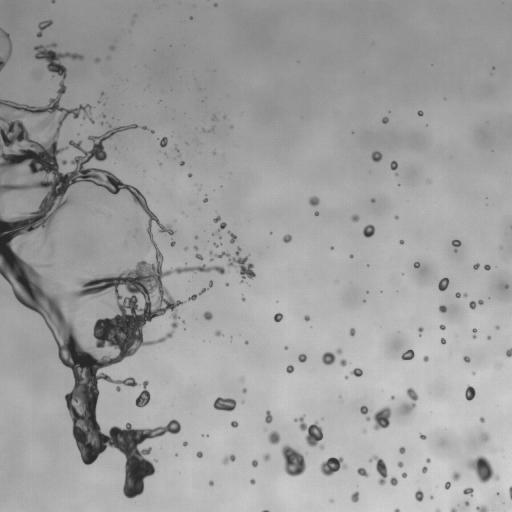droplet: (280, 443, 308, 476), (466, 455, 499, 483), (359, 405, 391, 430), (318, 456, 347, 476), (321, 347, 342, 365), (213, 396, 237, 411), (267, 430, 281, 445), (362, 224, 375, 238), (465, 384, 475, 401), (438, 277, 449, 291), (222, 454, 236, 465), (401, 349, 414, 360), (451, 239, 461, 253), (469, 299, 483, 309), (356, 467, 370, 477), (371, 150, 382, 162), (308, 195, 320, 206), (227, 230, 237, 243), (414, 488, 423, 502), (39, 35, 50, 46), (215, 120, 226, 131), (93, 125, 104, 136), (82, 140, 93, 151), (379, 156, 390, 167), (87, 157, 98, 168), (3, 211, 14, 222), (153, 231, 164, 242), (157, 233, 168, 244), (199, 271, 210, 282), (436, 312, 447, 323), (63, 380, 74, 391), (368, 403, 379, 414), (62, 416, 73, 427), (99, 423, 110, 434), (271, 443, 282, 454), (296, 443, 307, 454), (104, 444, 115, 455), (70, 448, 81, 459), (116, 452, 127, 463), (488, 458, 499, 469), (366, 463, 377, 474), (385, 464, 396, 475), (115, 469, 126, 480), (467, 469, 478, 480), (452, 480, 463, 491), (469, 494, 480, 505), (265, 409, 273, 423), (157, 136, 167, 147), (462, 487, 473, 497), (476, 503, 489, 511), (273, 312, 283, 322), (451, 471, 461, 481), (350, 491, 359, 502), (282, 234, 292, 243), (203, 311, 213, 320), (480, 432, 489, 442), (390, 475, 398, 486), (438, 304, 447, 313), (298, 353, 307, 362), (286, 364, 295, 373), (83, 54, 92, 63), (57, 56, 66, 65), (52, 72, 61, 81), (16, 96, 25, 105), (39, 98, 48, 107), (90, 108, 99, 117), (356, 220, 365, 229), (198, 232, 207, 241), (226, 244, 235, 253), (218, 257, 227, 266), (209, 270, 218, 279), (292, 360, 301, 369), (344, 363, 353, 372), (96, 378, 105, 387), (133, 385, 142, 394), (94, 413, 103, 422), (266, 422, 275, 431), (470, 450, 479, 459), (96, 452, 105, 461), (277, 456, 286, 465), (248, 467, 257, 476), (142, 475, 151, 484), (390, 160, 398, 170), (214, 329, 224, 337), (211, 113, 219, 122), (350, 214, 359, 222), (230, 420, 239, 428), (0, 91, 8, 100), (504, 347, 511, 357), (457, 505, 468, 511), (339, 358, 347, 366), (263, 453, 271, 461), (349, 327, 355, 337), (381, 116, 388, 124), (413, 261, 420, 269), (398, 446, 405, 454), (489, 446, 497, 453), (251, 459, 258, 467), (0, 105, 5, 116), (178, 159, 185, 166), (422, 355, 429, 362), (463, 355, 470, 362), (419, 432, 426, 439), (34, 37, 41, 44), (52, 46, 59, 53), (41, 58, 48, 65), (50, 91, 57, 98), (111, 120, 118, 127), (198, 132, 205, 139), (166, 139, 173, 146), (157, 153, 164, 160), (82, 162, 89, 169), (120, 176, 127, 183), (8, 189, 15, 196), (307, 190, 314, 197), (32, 204, 39, 211), (148, 204, 155, 211), (310, 204, 317, 211), (219, 228, 226, 235), (281, 228, 288, 235), (171, 233, 178, 240), (238, 251, 245, 258), (194, 259, 201, 266), (204, 260, 211, 267), (160, 264, 167, 271), (170, 271, 177, 278), (160, 275, 167, 282), (463, 297, 470, 304), (206, 305, 213, 312), (26, 308, 33, 315), (439, 330, 446, 337), (138, 344, 145, 351), (328, 346, 335, 353), (334, 354, 341, 361), (122, 355, 129, 362), (65, 367, 72, 374), (95, 367, 102, 374), (135, 376, 142, 383), (413, 386, 420, 393), (404, 396, 411, 403), (367, 410, 374, 417), (369, 418, 376, 425), (160, 419, 167, 426), (118, 423, 125, 430), (378, 426, 385, 433), (262, 431, 269, 438), (69, 437, 76, 444), (486, 439, 493, 446), (136, 443, 143, 450), (143, 453, 150, 460), (397, 453, 404, 460), (321, 454, 328, 461), (256, 456, 263, 463), (303, 457, 310, 464), (383, 459, 390, 466), (332, 470, 339, 477), (374, 472, 381, 479), (394, 472, 401, 479), (295, 473, 302, 480), (320, 473, 327, 480), (487, 477, 494, 484), (119, 493, 126, 500), (134, 493, 141, 500), (422, 493, 429, 500), (486, 503, 493, 510), (169, 238, 175, 246), (473, 262, 479, 270), (239, 376, 245, 384), (444, 481, 450, 489), (440, 506, 449, 511), (467, 506, 476, 511), (99, 112, 106, 118), (483, 264, 490, 270), (439, 324, 446, 330), (440, 337, 446, 344), (479, 416, 485, 423), (196, 451, 202, 458), (397, 461, 403, 468), (421, 466, 427, 473), (400, 472, 407, 478), (249, 478, 255, 485), (94, 57, 100, 63), (417, 110, 423, 116), (304, 315, 310, 321), (425, 457, 431, 463), (0, 50, 4, 59), (241, 293, 245, 301), (109, 45, 115, 50), (100, 91, 105, 97), (211, 149, 216, 155), (398, 239, 404, 244), (242, 387, 247, 393), (362, 427, 367, 433), (182, 441, 188, 446), (208, 480, 213, 486), (426, 178, 431, 183), (370, 198, 375, 203), (314, 211, 319, 216), (183, 246, 188, 251), (494, 325, 499, 330), (486, 335, 491, 340), (390, 395, 395, 400), (262, 427, 267, 432), (329, 498, 334, 503), (464, 501, 469, 506), (44, 15, 49, 20), (4, 27, 9, 32), (34, 27, 39, 32), (41, 29, 46, 34), (54, 38, 59, 43), (11, 43, 16, 48), (50, 46, 55, 51), (11, 47, 16, 52), (69, 48, 74, 53), (32, 49, 37, 54), (76, 49, 81, 54), (106, 49, 111, 54), (10, 50, 15, 55), (99, 55, 104, 60), (74, 58, 79, 63), (1, 65, 6, 70), (65, 69, 70, 74), (52, 71, 57, 76), (62, 80, 67, 85), (55, 84, 60, 89), (64, 88, 69, 93), (60, 93, 65, 98), (58, 102, 63, 107), (78, 109, 83, 114), (68, 112, 73, 117), (216, 113, 221, 118), (386, 113, 391, 118), (105, 115, 110, 120), (377, 115, 382, 120), (98, 116, 103, 121), (84, 117, 89, 122), (61, 120, 66, 125), (125, 120, 130, 125), (209, 120, 214, 125), (137, 121, 142, 126), (385, 121, 390, 126), (204, 124, 209, 129), (59, 126, 64, 131), (136, 126, 141, 131), (126, 128, 131, 133), (208, 131, 213, 136), (164, 132, 169, 137), (111, 133, 116, 138), (73, 138, 78, 143), (101, 140, 106, 145), (79, 143, 84, 148), (55, 144, 60, 149), (161, 146, 166, 151), (371, 146, 376, 151), (105, 153, 110, 158), (180, 155, 185, 160), (90, 156, 95, 161), (367, 156, 372, 161), (176, 157, 181, 162), (371, 160, 376, 165), (375, 160, 380, 165), (396, 160, 401, 165), (385, 163, 390, 168), (394, 167, 399, 172), (192, 186, 197, 191), (139, 188, 144, 193), (316, 193, 321, 198), (368, 193, 373, 198), (374, 196, 379, 201), (365, 197, 370, 202), (304, 198, 309, 203), (354, 210, 359, 215), (158, 218, 163, 223), (150, 219, 155, 224), (369, 220, 374, 225), (215, 221, 220, 226), (170, 225, 175, 230), (223, 226, 228, 231), (373, 229, 378, 234), (359, 232, 364, 237), (226, 234, 231, 239), (278, 234, 283, 239), (368, 235, 373, 240), (193, 239, 198, 244), (233, 239, 238, 244), (281, 241, 286, 246), (286, 241, 291, 246), (456, 245, 461, 250), (159, 248, 164, 253), (191, 249, 196, 254), (196, 249, 201, 254), (221, 254, 226, 259), (186, 262, 191, 267), (179, 263, 184, 268), (489, 263, 494, 268), (478, 264, 483, 269), (223, 265, 228, 270), (236, 266, 241, 271), (250, 266, 255, 271), (186, 270, 191, 275), (196, 270, 201, 275), (180, 271, 185, 276), (236, 273, 241, 278), (203, 282, 208, 287), (433, 282, 438, 287), (6, 284, 11, 289), (444, 287, 449, 292), (458, 288, 463, 293), (193, 289, 198, 294), (362, 293, 367, 298), (236, 294, 241, 299), (172, 296, 177, 301), (12, 297, 17, 302), (473, 297, 478, 302), (482, 297, 487, 302), (439, 300, 444, 305), (475, 303, 480, 308), (20, 304, 25, 309), (176, 304, 181, 309), (434, 307, 439, 312), (445, 307, 450, 312), (199, 309, 204, 314), (210, 310, 215, 315), (304, 310, 309, 315), (438, 311, 443, 316), (308, 313, 313, 318), (199, 315, 204, 320), (269, 316, 274, 321), (39, 318, 44, 323), (175, 318, 180, 323), (203, 318, 208, 323), (208, 318, 213, 323), (279, 318, 284, 323), (305, 320, 310, 325), (416, 322, 421, 327), (351, 323, 356, 328), (216, 325, 221, 330), (210, 328, 215, 333), (220, 328, 225, 333), (345, 328, 350, 333), (354, 329, 359, 334), (46, 330, 51, 335), (171, 332, 176, 337), (217, 335, 222, 340), (165, 337, 170, 342), (158, 341, 163, 346), (154, 342, 159, 347), (505, 344, 510, 349), (53, 346, 58, 351), (298, 349, 303, 354), (319, 350, 324, 355), (466, 352, 471, 357), (501, 352, 506, 357), (427, 354, 432, 359), (305, 357, 310, 362), (345, 357, 350, 362), (426, 359, 431, 364), (57, 360, 62, 365), (421, 360, 426, 365), (319, 361, 324, 366), (110, 374, 115, 379), (119, 375, 124, 380), (112, 382, 117, 387), (119, 383, 124, 388), (239, 383, 244, 388), (462, 384, 467, 389), (127, 385, 132, 390), (145, 385, 150, 390), (402, 386, 407, 391), (473, 386, 478, 391), (474, 390, 479, 395), (221, 393, 226, 398), (460, 393, 465, 398), (473, 393, 478, 398), (211, 395, 216, 400), (130, 398, 135, 403), (61, 399, 66, 404), (414, 399, 419, 404), (412, 406, 417, 411), (222, 409, 227, 414), (269, 410, 274, 415), (261, 412, 266, 417), (295, 413, 300, 418), (360, 413, 365, 418), (483, 415, 488, 420), (387, 416, 392, 421), (474, 416, 479, 421), (176, 417, 181, 422), (295, 420, 300, 425), (481, 421, 486, 426), (130, 424, 135, 429), (227, 424, 232, 429), (386, 424, 391, 429), (179, 425, 184, 430), (231, 426, 236, 431), (303, 429, 308, 434), (321, 429, 326, 434), (164, 430, 169, 435), (487, 432, 492, 437), (159, 434, 164, 439), (156, 435, 161, 440), (419, 438, 424, 443), (317, 439, 322, 444), (397, 442, 402, 447), (196, 446, 201, 451), (404, 447, 409, 452), (394, 448, 399, 453), (226, 450, 231, 455), (366, 453, 371, 458), (334, 454, 339, 459), (194, 456, 199, 461), (372, 459, 377, 464), (424, 462, 429, 467), (247, 463, 252, 468), (356, 463, 361, 468), (417, 465, 422, 470), (337, 467, 342, 472), (399, 467, 404, 472), (152, 471, 157, 476), (358, 474, 363, 479), (208, 475, 213, 480), (385, 475, 390, 480), (254, 479, 259, 484), (449, 479, 454, 484), (203, 480, 208, 485), (245, 480, 250, 485), (440, 481, 445, 486), (463, 483, 468, 488), (412, 487, 417, 492), (350, 488, 355, 493), (458, 489, 463, 494), (504, 490, 509, 495), (357, 493, 362, 498), (412, 498, 417, 503), (352, 501, 357, 506), (459, 501, 464, 506), (391, 504, 396, 509), (397, 504, 402, 509), (447, 504, 452, 509), (158, 160, 162, 166), (0, 156, 3, 163), (131, 20, 135, 25), (106, 56, 111, 60), (187, 173, 192, 177), (394, 215, 399, 219), (244, 340, 248, 345), (284, 345, 288, 350), (240, 399, 244, 404), (429, 494, 433, 499), (213, 3, 217, 7), (229, 125, 233, 129), (184, 141, 188, 145), (194, 235, 198, 239), (330, 246, 334, 250), (349, 254, 353, 258), (225, 282, 229, 286), (504, 284, 508, 288), (471, 371, 475, 375), (508, 283, 511, 288), (508, 355, 511, 360), (51, 0, 55, 3), (133, 14, 137, 17), (189, 16, 193, 19), (158, 99, 161, 103), (97, 100, 101, 103), (223, 115, 226, 119), (76, 132, 79, 136), (395, 172, 398, 176), (173, 219, 176, 223), (362, 299, 366, 302), (320, 417, 324, 420), (212, 0, 217, 2), (0, 273, 2, 278), (492, 66, 495, 69), (443, 97, 446, 100), (103, 102, 106, 105), (181, 211, 184, 214), (269, 231, 272, 234), (500, 246, 503, 249), (366, 264, 369, 267), (401, 272, 404, 275), (366, 290, 369, 293), (175, 453, 178, 456), (496, 492, 499, 495), (213, 6, 216, 9), (186, 15, 189, 18), (192, 16, 195, 19), (189, 19, 192, 22), (33, 33, 36, 36), (8, 34, 11, 37), (494, 65, 497, 68), (488, 66, 491, 69), (491, 69, 494, 72), (103, 89, 106, 92), (97, 92, 100, 95), (101, 94, 104, 97), (96, 97, 99, 100), (159, 101, 162, 104), (89, 102, 92, 105), (99, 102, 102, 105), (76, 104, 79, 107), (90, 107, 93, 110), (417, 107, 420, 110), (103, 111, 106, 114), (415, 113, 418, 116), (422, 113, 425, 116), (209, 114, 212, 117), (418, 115, 421, 118), (88, 121, 91, 124), (382, 123, 385, 126), (146, 125, 149, 128), (106, 127, 109, 130), (198, 127, 201, 130), (213, 127, 216, 130), (352, 128, 355, 131), (147, 130, 150, 133), (203, 132, 206, 135), (351, 133, 354, 136), (159, 136, 162, 139), (187, 140, 190, 143), (157, 144, 160, 147), (176, 145, 179, 148), (116, 146, 119, 149), (179, 149, 182, 152), (162, 154, 165, 157), (389, 158, 392, 161), (159, 159, 162, 162), (155, 161, 158, 164), (176, 162, 179, 165), (183, 163, 186, 166), (160, 164, 163, 167), (392, 169, 395, 172), (185, 175, 188, 178), (190, 175, 193, 178), (395, 175, 398, 178), (396, 180, 399, 183), (133, 184, 136, 187), (399, 184, 402, 187), (396, 185, 399, 188), (219, 187, 222, 190), (202, 195, 205, 198), (206, 195, 209, 198), (487, 196, 490, 199), (484, 198, 487, 201), (204, 201, 207, 204), (371, 202, 374, 205), (318, 211, 321, 214), (311, 212, 314, 215), (397, 213, 400, 216), (156, 215, 159, 218), (315, 215, 318, 218), (393, 218, 396, 221), (396, 218, 399, 221), (210, 219, 213, 222), (270, 228, 273, 231), (266, 230, 269, 233), (165, 231, 168, 234), (194, 231, 197, 234), (208, 231, 211, 234), (233, 232, 236, 235), (271, 232, 274, 235), (170, 234, 173, 237), (191, 234, 194, 237), (197, 234, 200, 237), (399, 236, 402, 239), (455, 236, 458, 239), (168, 239, 171, 242), (403, 240, 406, 243), (448, 240, 451, 243), (216, 241, 219, 244), (173, 243, 176, 246), (331, 243, 334, 246), (399, 243, 402, 246), (239, 245, 242, 248), (327, 247, 330, 250), (332, 248, 335, 251), (346, 254, 349, 257), (162, 255, 165, 258), (352, 255, 355, 258), (348, 257, 351, 260), (366, 260, 369, 263), (418, 260, 421, 263), (473, 261, 476, 264), (485, 261, 488, 264), (363, 264, 366, 267), (410, 264, 413, 267), (368, 265, 371, 268), (172, 266, 175, 269), (401, 269, 404, 272), (484, 269, 487, 272), (402, 274, 405, 277), (443, 274, 446, 277), (439, 276, 442, 279), (448, 279, 451, 282), (212, 281, 215, 284), (240, 282, 243, 285), (502, 282, 505, 285), (228, 283, 231, 286), (447, 283, 450, 286), (224, 285, 227, 288), (208, 287, 211, 290), (365, 287, 368, 290), (379, 287, 382, 290), (362, 290, 365, 293), (368, 290, 371, 293), (376, 290, 379, 293), (382, 290, 385, 293), (201, 292, 204, 295), (379, 292, 382, 295), (452, 292, 455, 295), (188, 293, 191, 296), (242, 294, 245, 297), (456, 297, 459, 300), (244, 298, 247, 301), (189, 299, 192, 302), (239, 299, 242, 302), (359, 299, 362, 302), (466, 303, 469, 306), (468, 307, 471, 310), (279, 310, 282, 313), (272, 312, 275, 315), (301, 315, 304, 318), (184, 319, 187, 322), (302, 319, 305, 322), (276, 321, 279, 324), (441, 321, 444, 324), (496, 322, 499, 325), (444, 324, 447, 327), (474, 325, 477, 328), (499, 325, 502, 328), (416, 330, 419, 333), (420, 331, 423, 334), (471, 331, 474, 334), (487, 332, 490, 335), (232, 335, 235, 338), (490, 335, 493, 338), (227, 337, 230, 340), (244, 337, 247, 340), (474, 337, 477, 340), (231, 339, 234, 342), (247, 339, 250, 342), (437, 339, 440, 342), (487, 339, 490, 342), (241, 340, 244, 343), (247, 342, 250, 345), (286, 343, 289, 346), (442, 343, 445, 346), (281, 344, 284, 347), (408, 346, 411, 349), (284, 349, 287, 352), (413, 351, 416, 354), (304, 352, 307, 355), (404, 359, 407, 362), (461, 359, 464, 362), (300, 361, 303, 364), (464, 361, 467, 364), (286, 362, 289, 365), (359, 366, 362, 369), (283, 367, 286, 370), (472, 368, 475, 371), (291, 370, 294, 373), (288, 372, 291, 375), (474, 373, 477, 376), (129, 374, 132, 377), (341, 376, 344, 379), (246, 388, 249, 391), (114, 390, 117, 393), (390, 392, 393, 395), (149, 395, 152, 398), (387, 395, 390, 398), (394, 395, 397, 398), (137, 406, 140, 409), (267, 407, 270, 410), (291, 416, 294, 419), (235, 419, 238, 422), (236, 425, 239, 428), (421, 431, 424, 434), (208, 433, 211, 436), (416, 433, 419, 436), (203, 434, 206, 437), (185, 438, 188, 441), (179, 441, 182, 444), (185, 444, 188, 447), (182, 445, 185, 448), (172, 451, 175, 454), (177, 452, 180, 455), (193, 452, 196, 455), (201, 452, 204, 455), (173, 455, 176, 458), (234, 457, 237, 460), (429, 458, 432, 461), (406, 472, 409, 475), (405, 475, 408, 478), (212, 480, 215, 483), (209, 485, 212, 488), (448, 486, 451, 489), (498, 490, 501, 493), (471, 491, 474, 494), (493, 491, 496, 494), (432, 494, 435, 497), (264, 506, 267, 509), (455, 506, 458, 509), (490, 72, 492, 75), (388, 110, 390, 113), (425, 124, 428, 126), (351, 131, 354, 133), (114, 146, 116, 149), (397, 184, 400, 186), (380, 290, 382, 293), (276, 300, 278, 303), (52, 75, 54, 77), (220, 185, 222, 187), (213, 189, 215, 191), (488, 297, 490, 299), (183, 328, 185, 330), (356, 485, 358, 487), (48, 0, 51, 1), (54, 0, 57, 1), (201, 100, 203, 101), (486, 197, 487, 198)
ligament: (293, 414, 324, 450), (368, 453, 387, 485), (0, 27, 12, 71), (85, 207, 117, 223), (400, 387, 418, 415), (36, 19, 53, 37), (344, 368, 363, 379), (199, 124, 215, 134), (105, 198, 119, 205), (455, 292, 468, 298), (471, 328, 478, 339), (122, 237, 128, 249), (417, 326, 423, 337), (508, 485, 511, 501), (203, 193, 208, 202), (213, 242, 222, 247), (164, 151, 169, 159), (449, 507, 458, 511), (197, 184, 202, 191), (338, 395, 343, 402), (201, 434, 209, 437), (393, 508, 401, 511), (230, 335, 232, 344), (261, 509, 270, 511), (435, 508, 441, 511), (143, 169, 145, 173), (455, 335, 458, 337), (457, 504, 460, 506), (510, 225, 511, 228)
